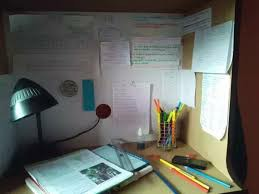pen: (159, 156, 209, 190), (185, 165, 232, 187), (148, 164, 179, 194)
